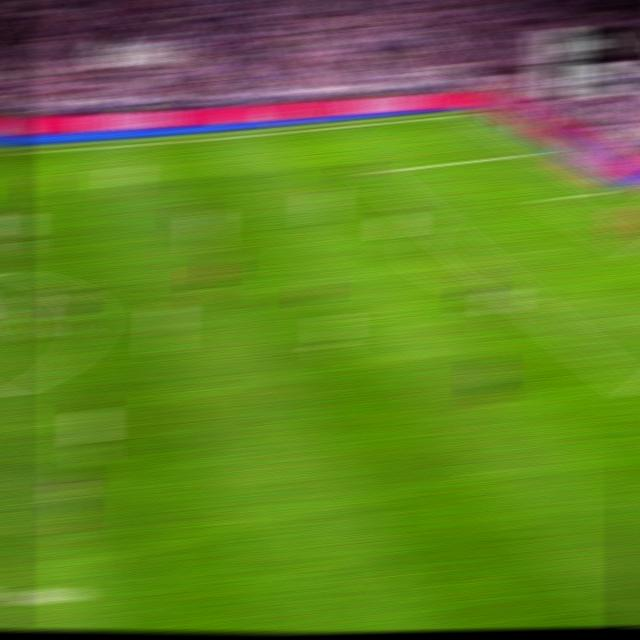bigarea_top_inner: (363, 166, 385, 178)
bigarea_top_outter: (525, 145, 549, 156)
bottom_arc_area_intersection: (514, 294, 538, 307)
corner: (458, 108, 483, 117)
smallarea_top_inner: (540, 194, 561, 204)
top_arc_area_intersection: (420, 214, 446, 230)
